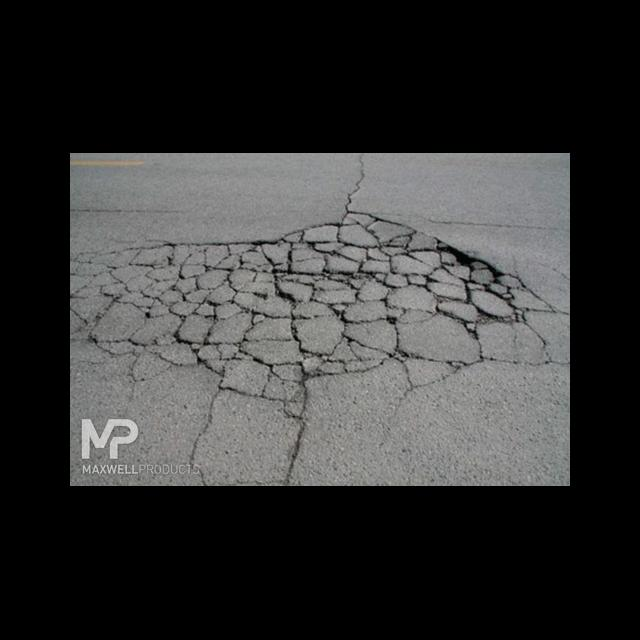retak_kulit_buaya: (70, 201, 538, 414)
